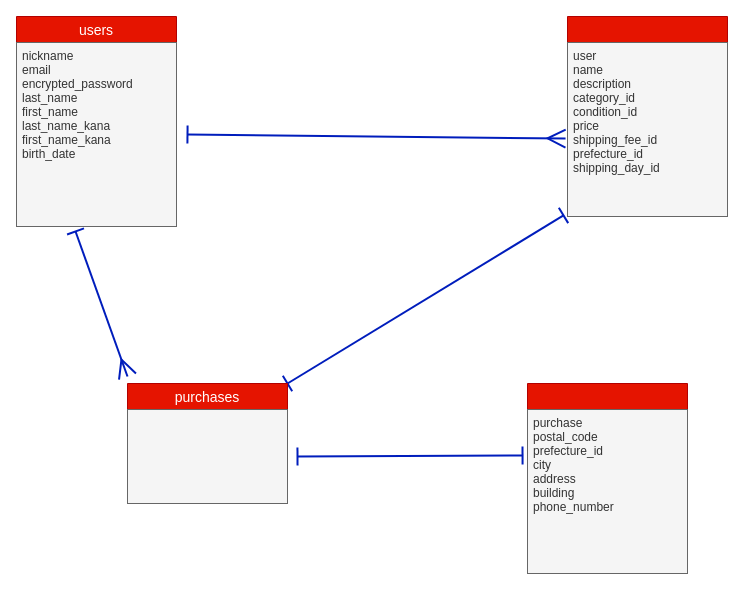
Image size: 744x590. Some labels were removed from this diagram. Here are the shapes that lost their labels. From the top down, the box of each, then its label:
(566, 16, 728, 216): items
(126, 408, 288, 504): user item
(526, 382, 688, 574): shipping_addresses
